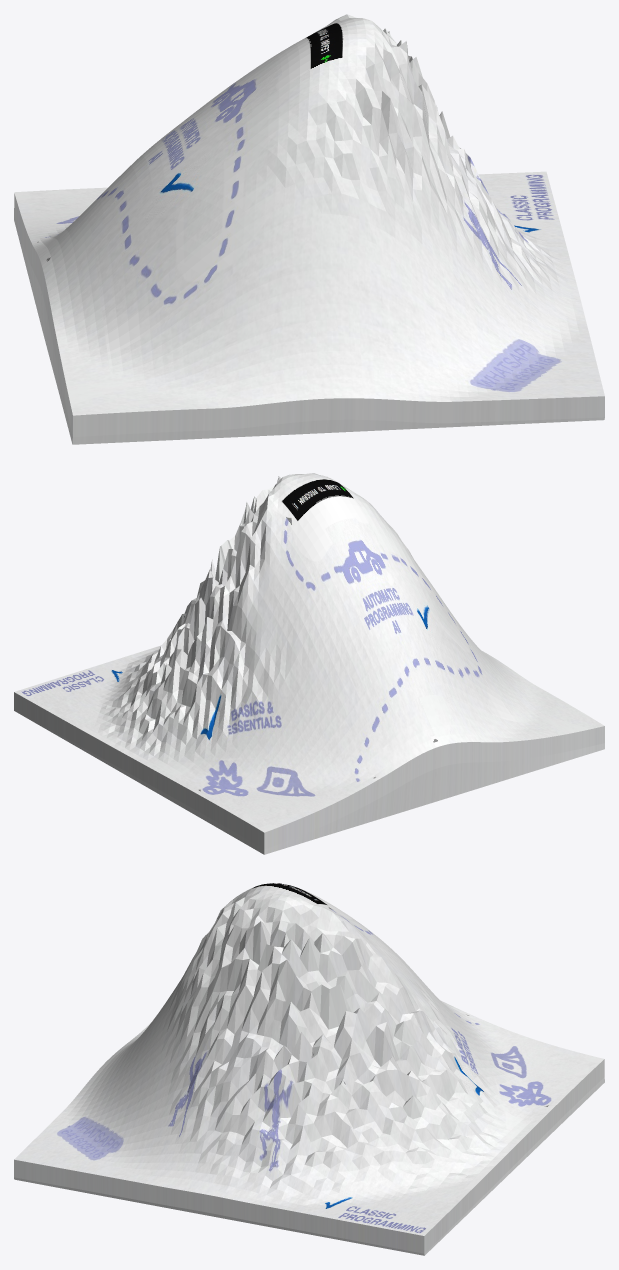
Rendered from model_drawed.glb.
3 renders of one model, top to bottom at view 1: azimuth 30°, elevation 25°; view 2: azimuth 150°, elevation 25°; view 3: azimuth 270°, elevation 25°, orthographic. The views are drawn at different scales.
Visible parts, largest first — view 1: Plane; view 2: Plane; view 3: Plane.
Part boxes in pixels (box(x1,y1,x2,y2)): Plane: box(14, 14, 604, 444); Plane: box(14, 473, 604, 854); Plane: box(14, 883, 604, 1255).
Size of the model in its own units: 7.91 by 3.7 by 7.91.
1 material, 1 textured.
